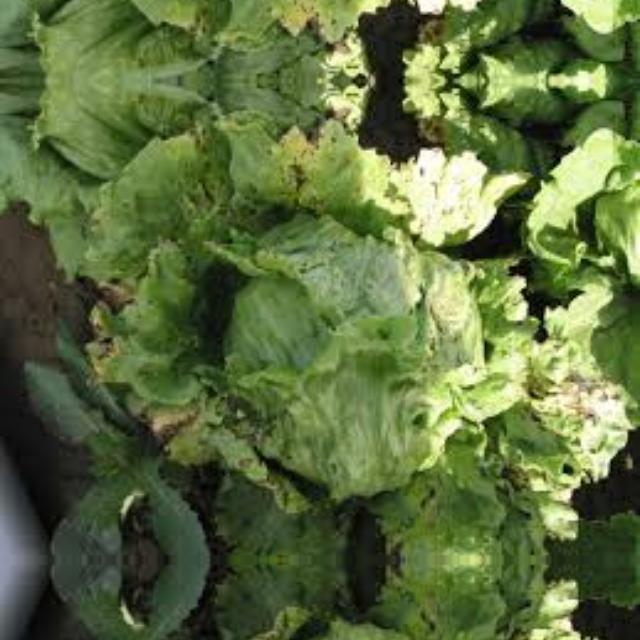Downy_mildew: (103, 235, 300, 513), (484, 261, 640, 541), (484, 578, 640, 640), (102, 606, 299, 640)
